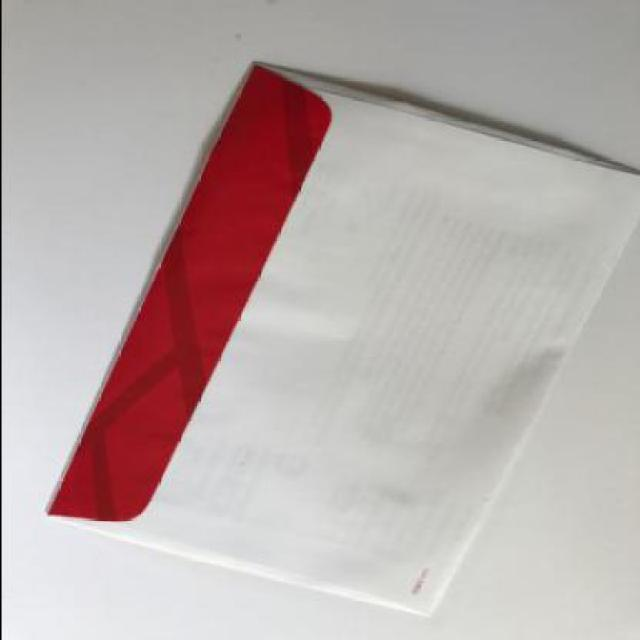PAPER: (44, 60, 638, 618)
